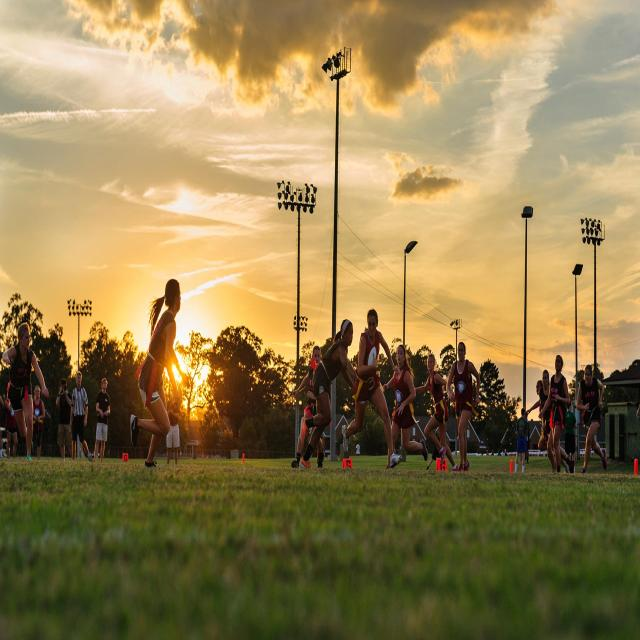body: (128, 276, 190, 472), (341, 307, 404, 469), (299, 318, 356, 470), (0, 320, 50, 459), (382, 342, 429, 470), (414, 352, 455, 474), (445, 340, 481, 475), (538, 354, 576, 477), (291, 344, 322, 470), (575, 363, 608, 478), (538, 368, 570, 474), (68, 371, 93, 465), (523, 379, 548, 452), (55, 378, 74, 463), (93, 377, 111, 465), (0, 389, 19, 459), (32, 385, 46, 462), (513, 406, 528, 476), (563, 398, 578, 462), (168, 397, 180, 468), (426, 444, 446, 472), (524, 411, 530, 464), (481, 448, 509, 458), (354, 441, 361, 457)
